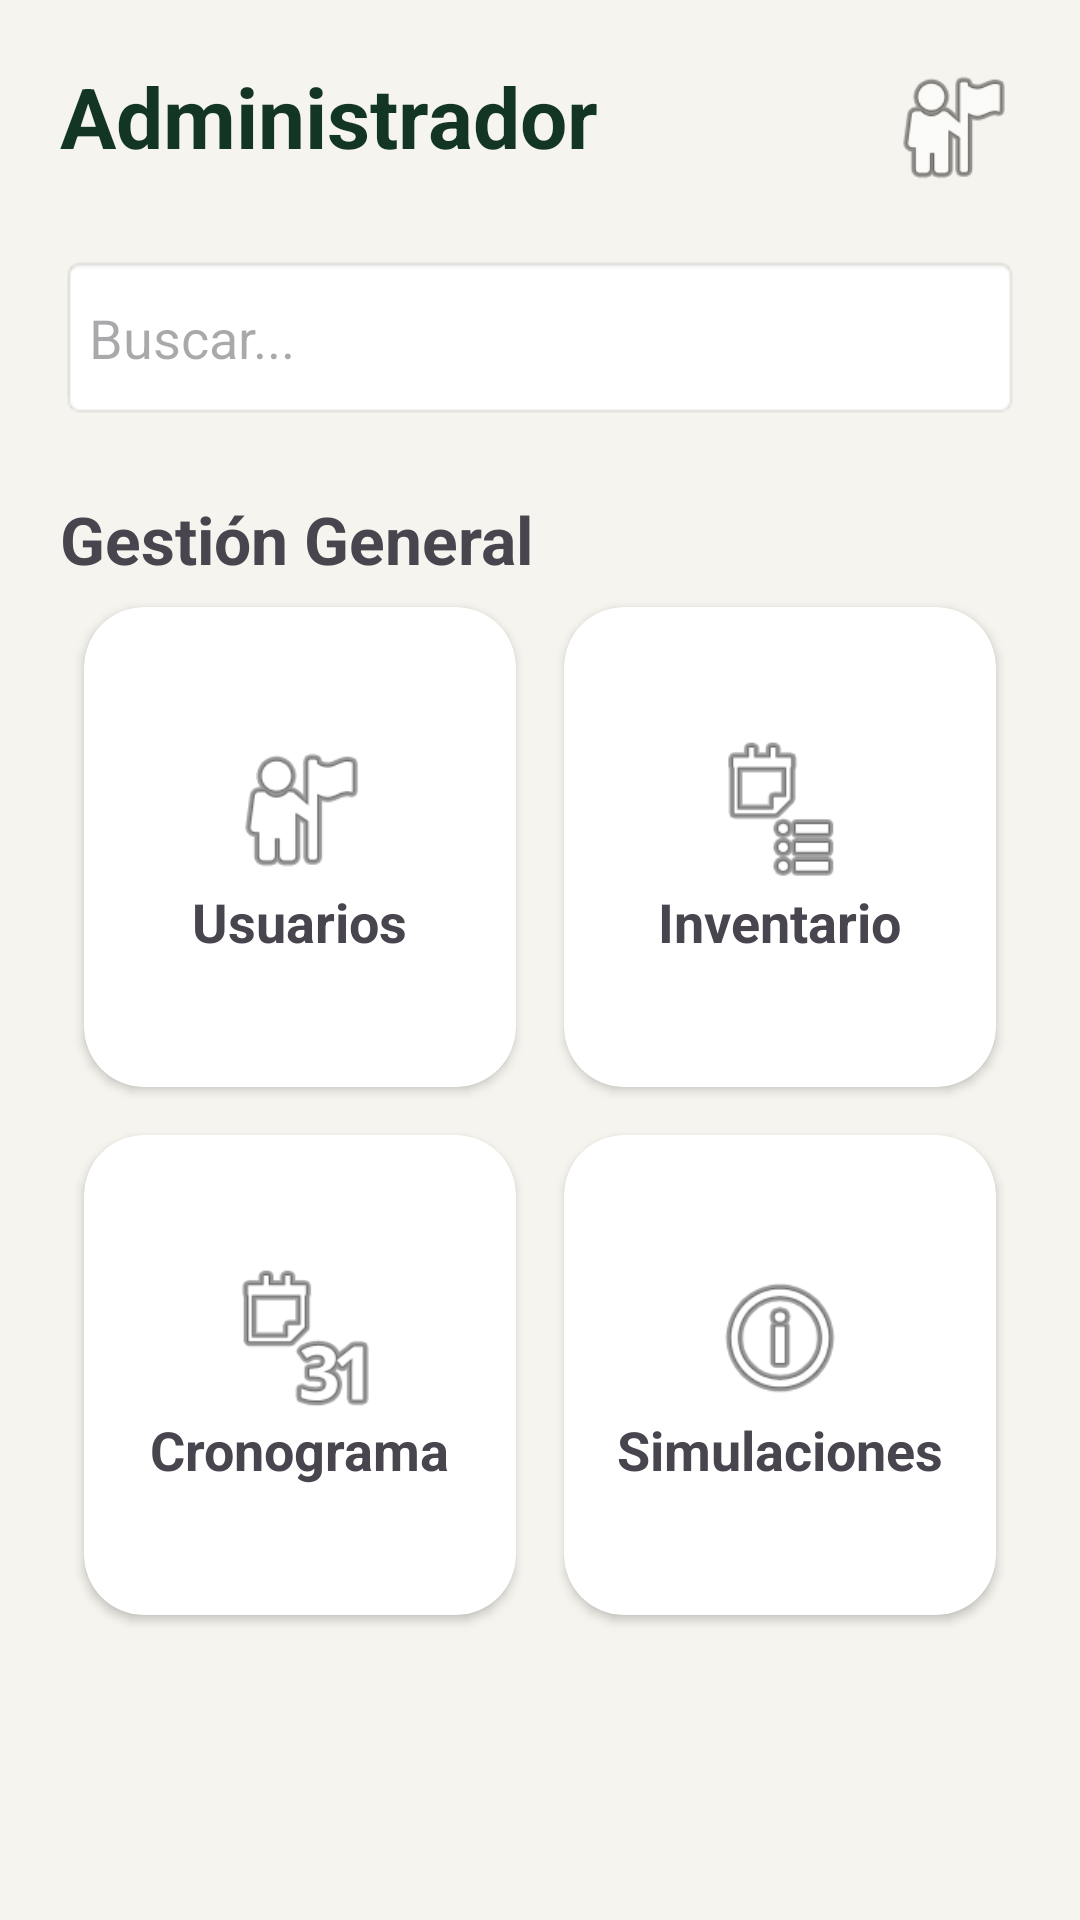

Icon click points for this 1080*1920 phone screenshot, format [x,y]:
agenda: [781,809]
info details: [780,1338]
month: [305,1338]
myplaces: [954,127], [301,810]
